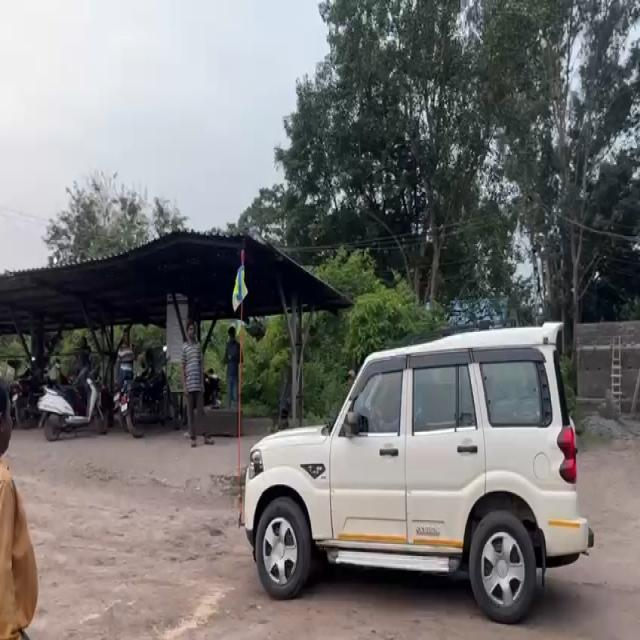light_vehicle: (245, 322, 593, 616)
